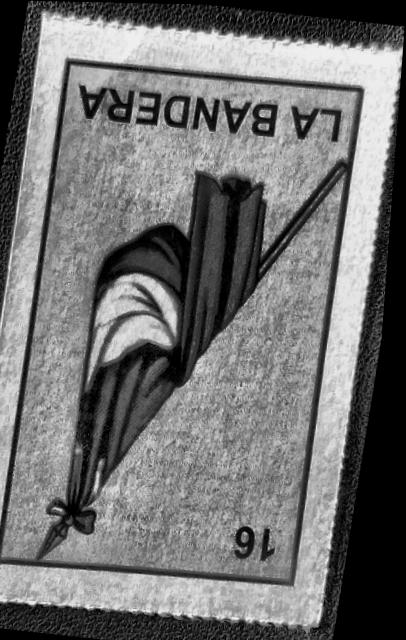La Bandera: (0, 31, 385, 612)
